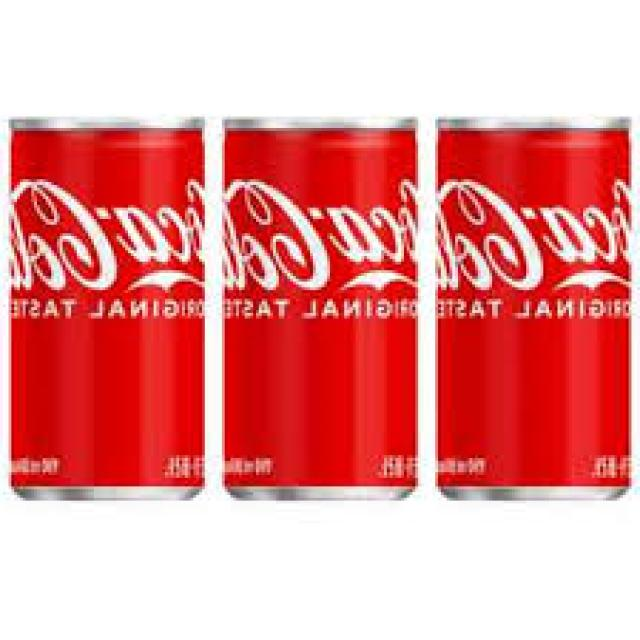Coca-Cola: (6, 101, 214, 507), (430, 106, 640, 502), (215, 107, 424, 504)
